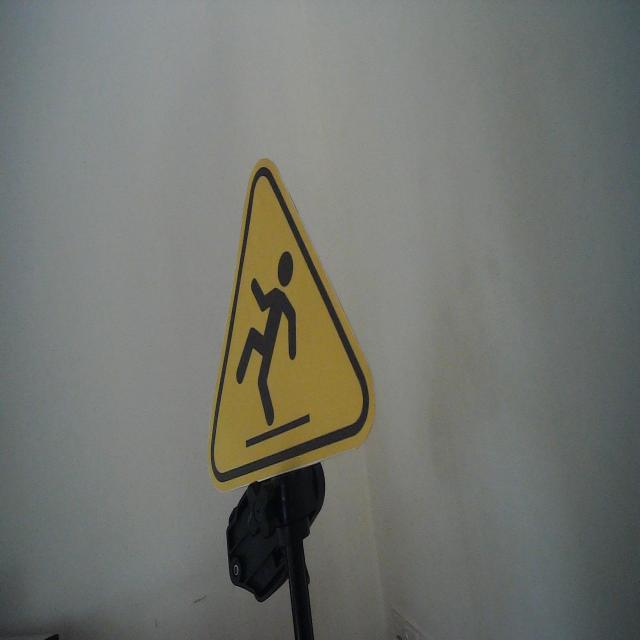slippery_sign: (205, 156, 378, 496)
